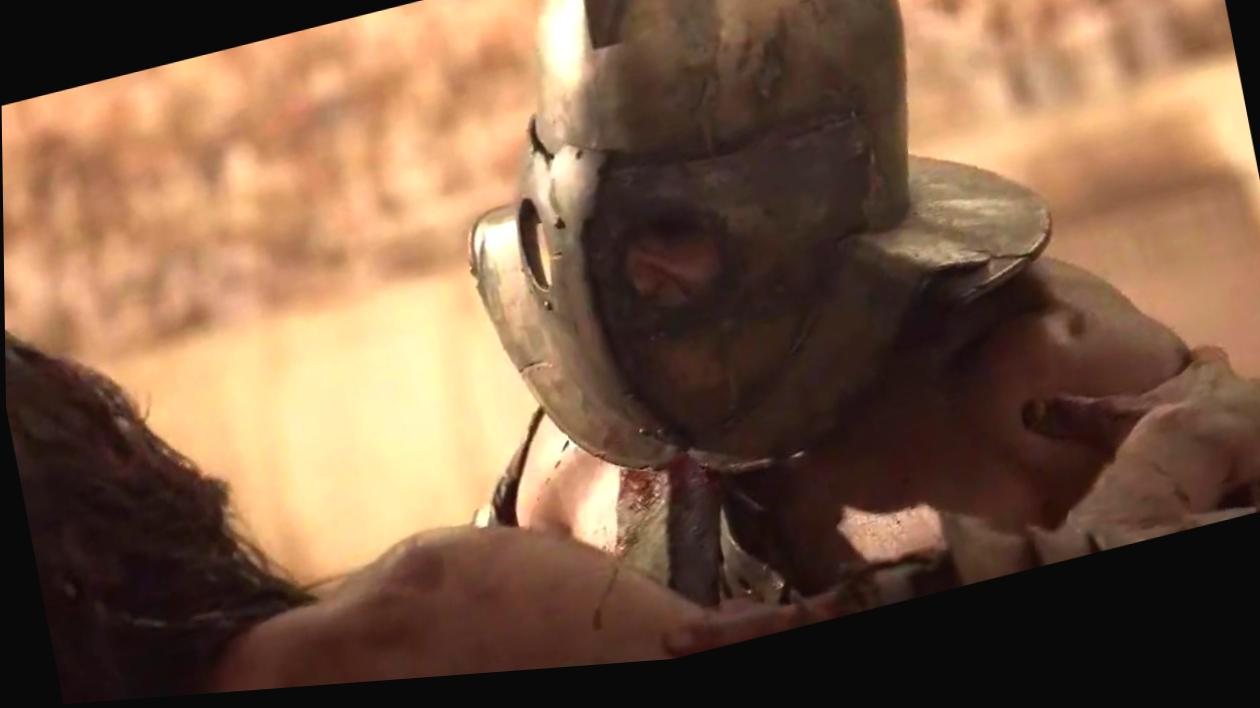Fire: (667, 466, 716, 516), (615, 478, 666, 523), (613, 534, 636, 569)
